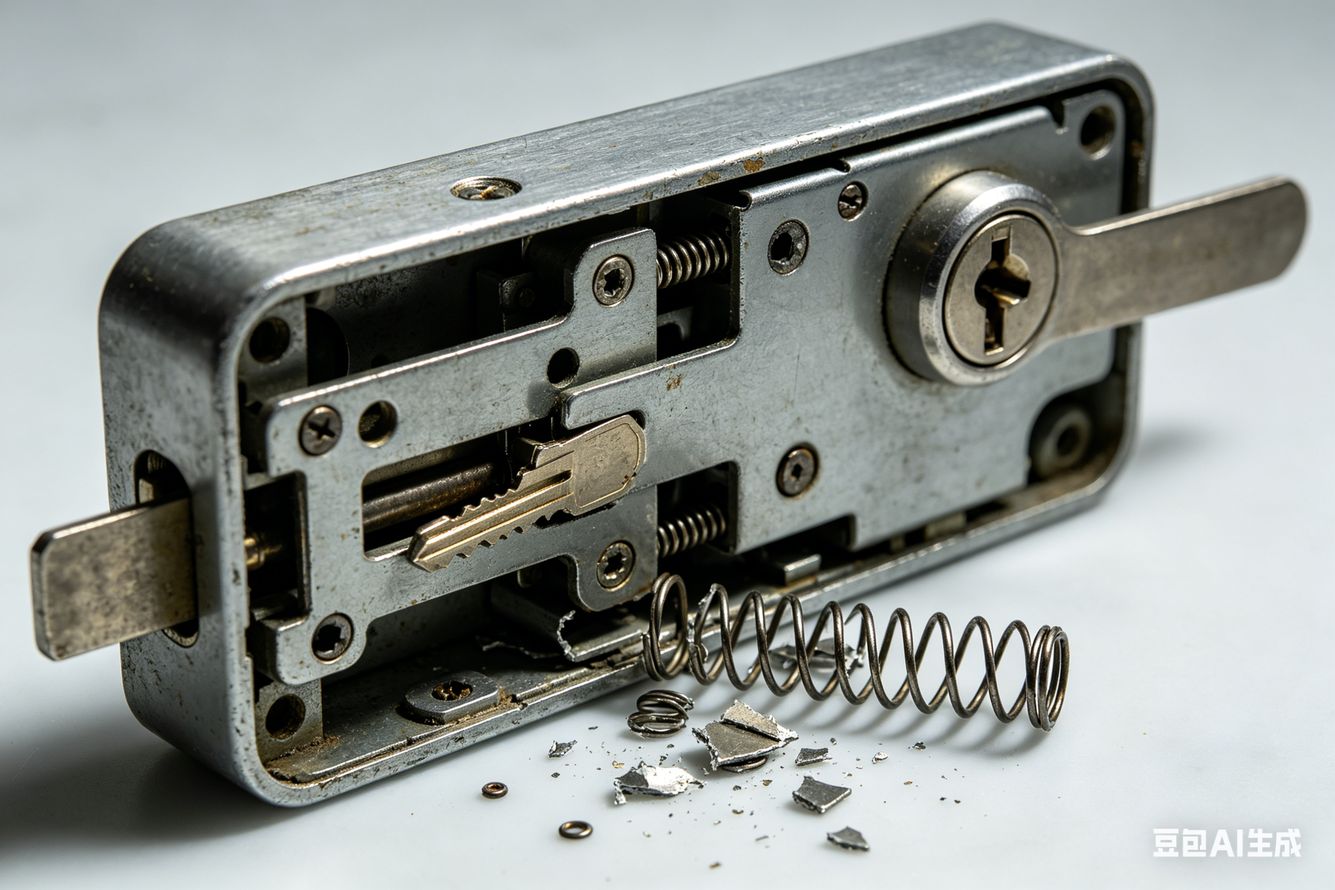BadLock: (343, 381, 669, 687)
